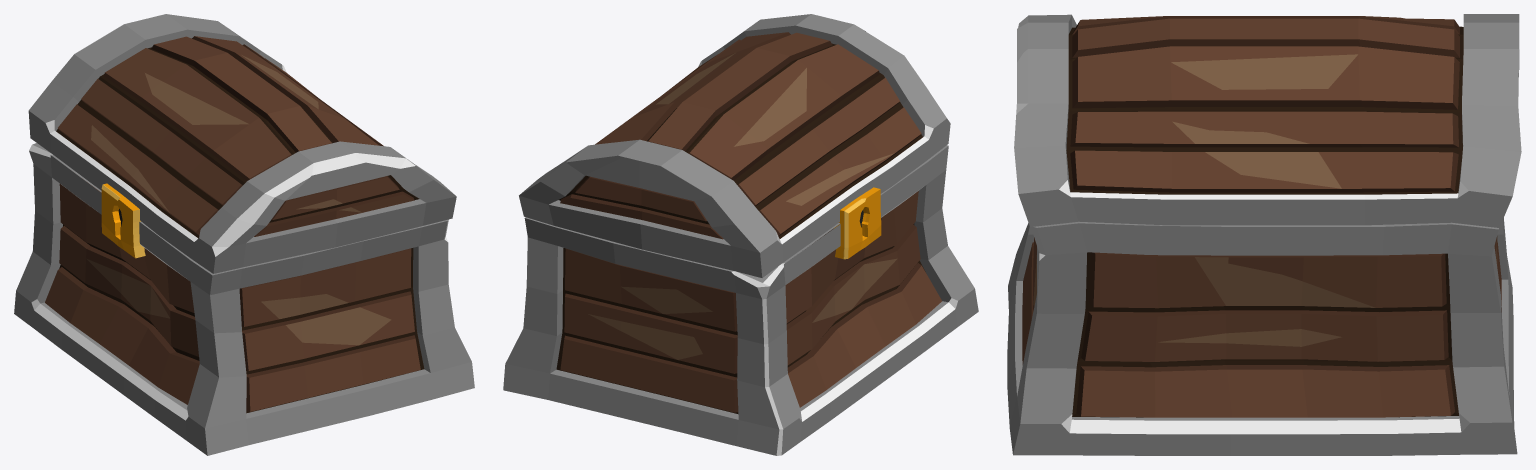
The model's file is gameAssetTreasureChest3.glb.
3 renders of one model, left to right at view 1: azimuth 30°, elevation 25°; view 2: azimuth 150°, elevation 25°; view 3: azimuth 270°, elevation 25°, orthographic. The views are drawn at different scales.
Visible parts, largest first — view 1: Cube; view 2: Cube; view 3: Cube.
Boxes of the visible parts, x1,y1,x2,y2 form: Cube: (14, 14, 474, 455); Cube: (503, 14, 978, 455); Cube: (1007, 14, 1521, 455).
Bounding box in the file's own units: 1.42 × 1.34 × 1.81.
1 material, 1 textured.
